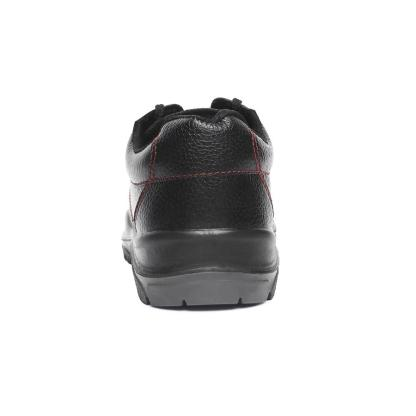bota: (118, 91, 282, 313)
